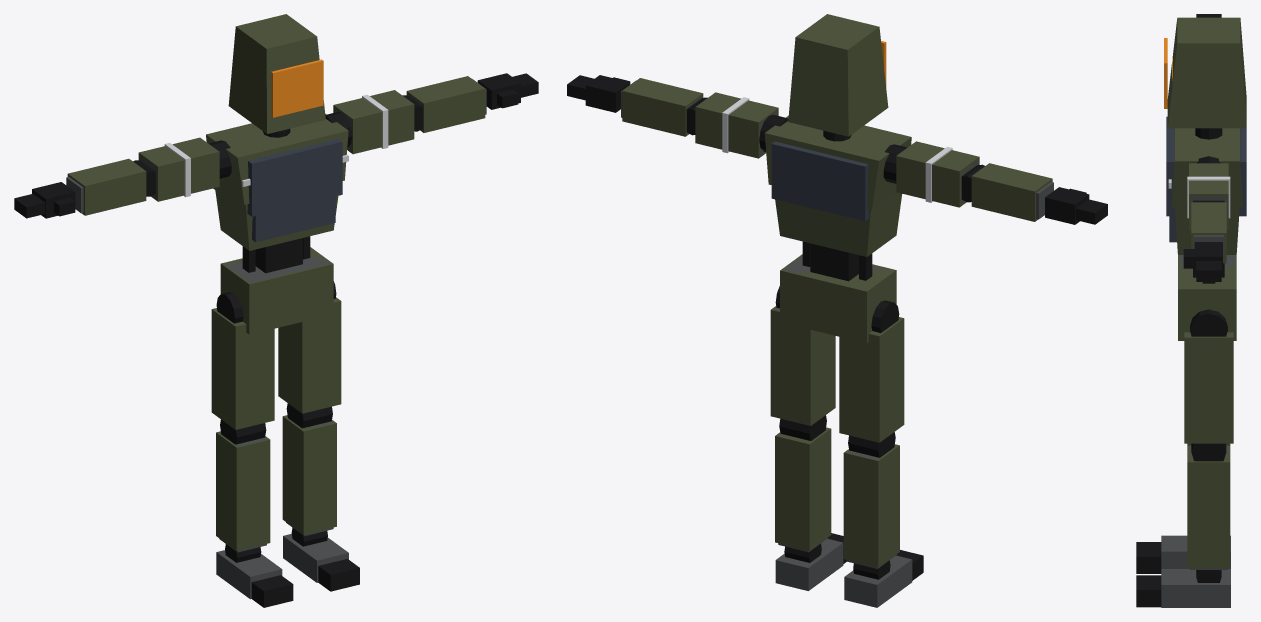
The model's file is char_F1_pilot.obj.
3 views of the same model, side by side, from view 1: azimuth 30°, elevation 25°; view 2: azimuth 150°, elevation 25°; view 3: azimuth 270°, elevation 25° (orthographic). The views are drawn at different scales.
Parts seen in each view (by area): view 1: FlightSuit, ChassisJoints, Vest_Light, Helmet_Pilot, Chassis, Helmet_Pilot_Visor, FlightSuit_Stripe; view 2: FlightSuit, ChassisJoints, Helmet_Pilot, Vest_Light, Chassis, FlightSuit_Stripe; view 3: FlightSuit, Helmet_Pilot, ChassisJoints, Chassis, Vest_Light, FlightSuit_Stripe, Helmet_Pilot_Visor.
Part boxes in pixels (box(x1,y1,x2,y2)): FlightSuit: box(67, 76, 485, 550); ChassisJoints: box(14, 73, 538, 607); Vest_Light: box(213, 139, 342, 242); Helmet_Pilot: box(228, 14, 325, 134); Chassis: box(66, 79, 486, 599); Helmet_Pilot_Visor: box(271, 59, 323, 117); FlightSuit_Stripe: box(164, 94, 388, 197); FlightSuit: box(622, 78, 1052, 567); ChassisJoints: box(567, 75, 1107, 580); Helmet_Pilot: box(788, 14, 888, 136); Vest_Light: box(771, 141, 902, 221); Chassis: box(621, 81, 1053, 607); FlightSuit_Stripe: box(722, 97, 952, 202); FlightSuit: box(1171, 128, 1242, 568); Helmet_Pilot: box(1167, 17, 1246, 128); ChassisJoints: box(1136, 14, 1227, 607); Chassis: box(1161, 196, 1233, 607); Vest_Light: box(1166, 116, 1246, 242); FlightSuit_Stripe: box(1168, 176, 1230, 218); Helmet_Pilot_Visor: box(1164, 38, 1167, 108).
Size of the model in its own units: 1.92 by 1.93 by 0.35.
